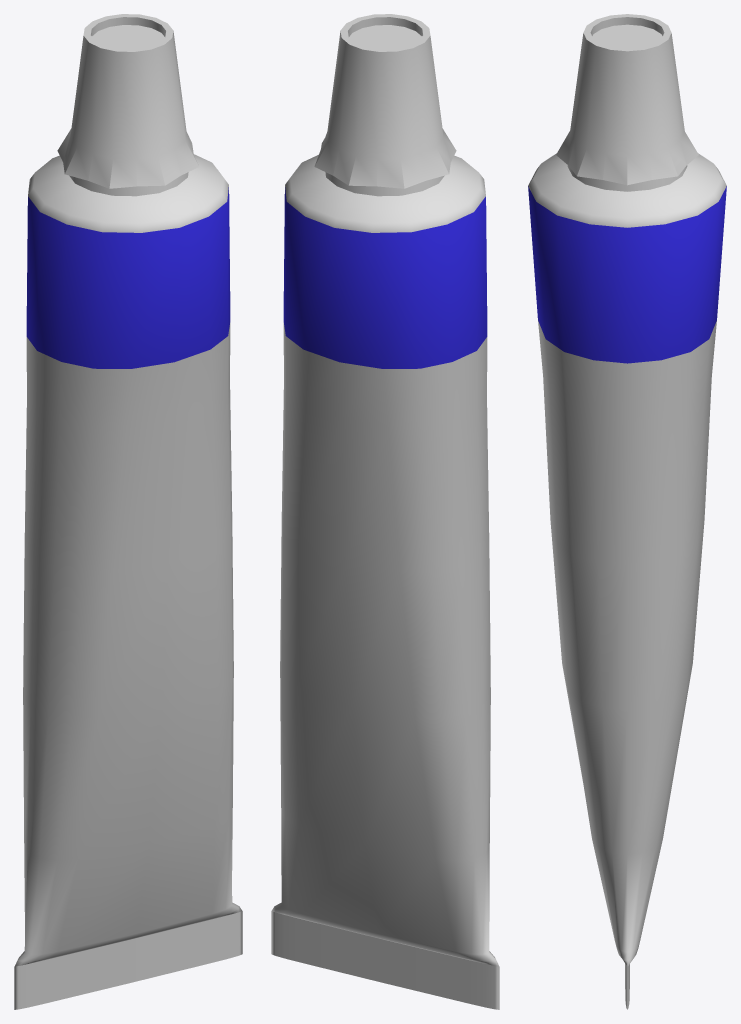
Rendered from paintTubeUnused.gltf.
3 renders of one model, left to right at view 1: azimuth 30°, elevation 25°; view 2: azimuth 150°, elevation 25°; view 3: azimuth 270°, elevation 25°, orthographic. The views are drawn at different scales.
Parts seen in each view (by area): view 1: Circle.011; view 2: Circle.011; view 3: Circle.011.
Boxes of the visible parts, box(x1,y1,x2,y2) form: Circle.011: box(14, 14, 242, 1009); Circle.011: box(271, 14, 499, 1009); Circle.011: box(528, 14, 726, 1009).
Size of the model in its own units: 3.99 by 15.88 by 3.1.
